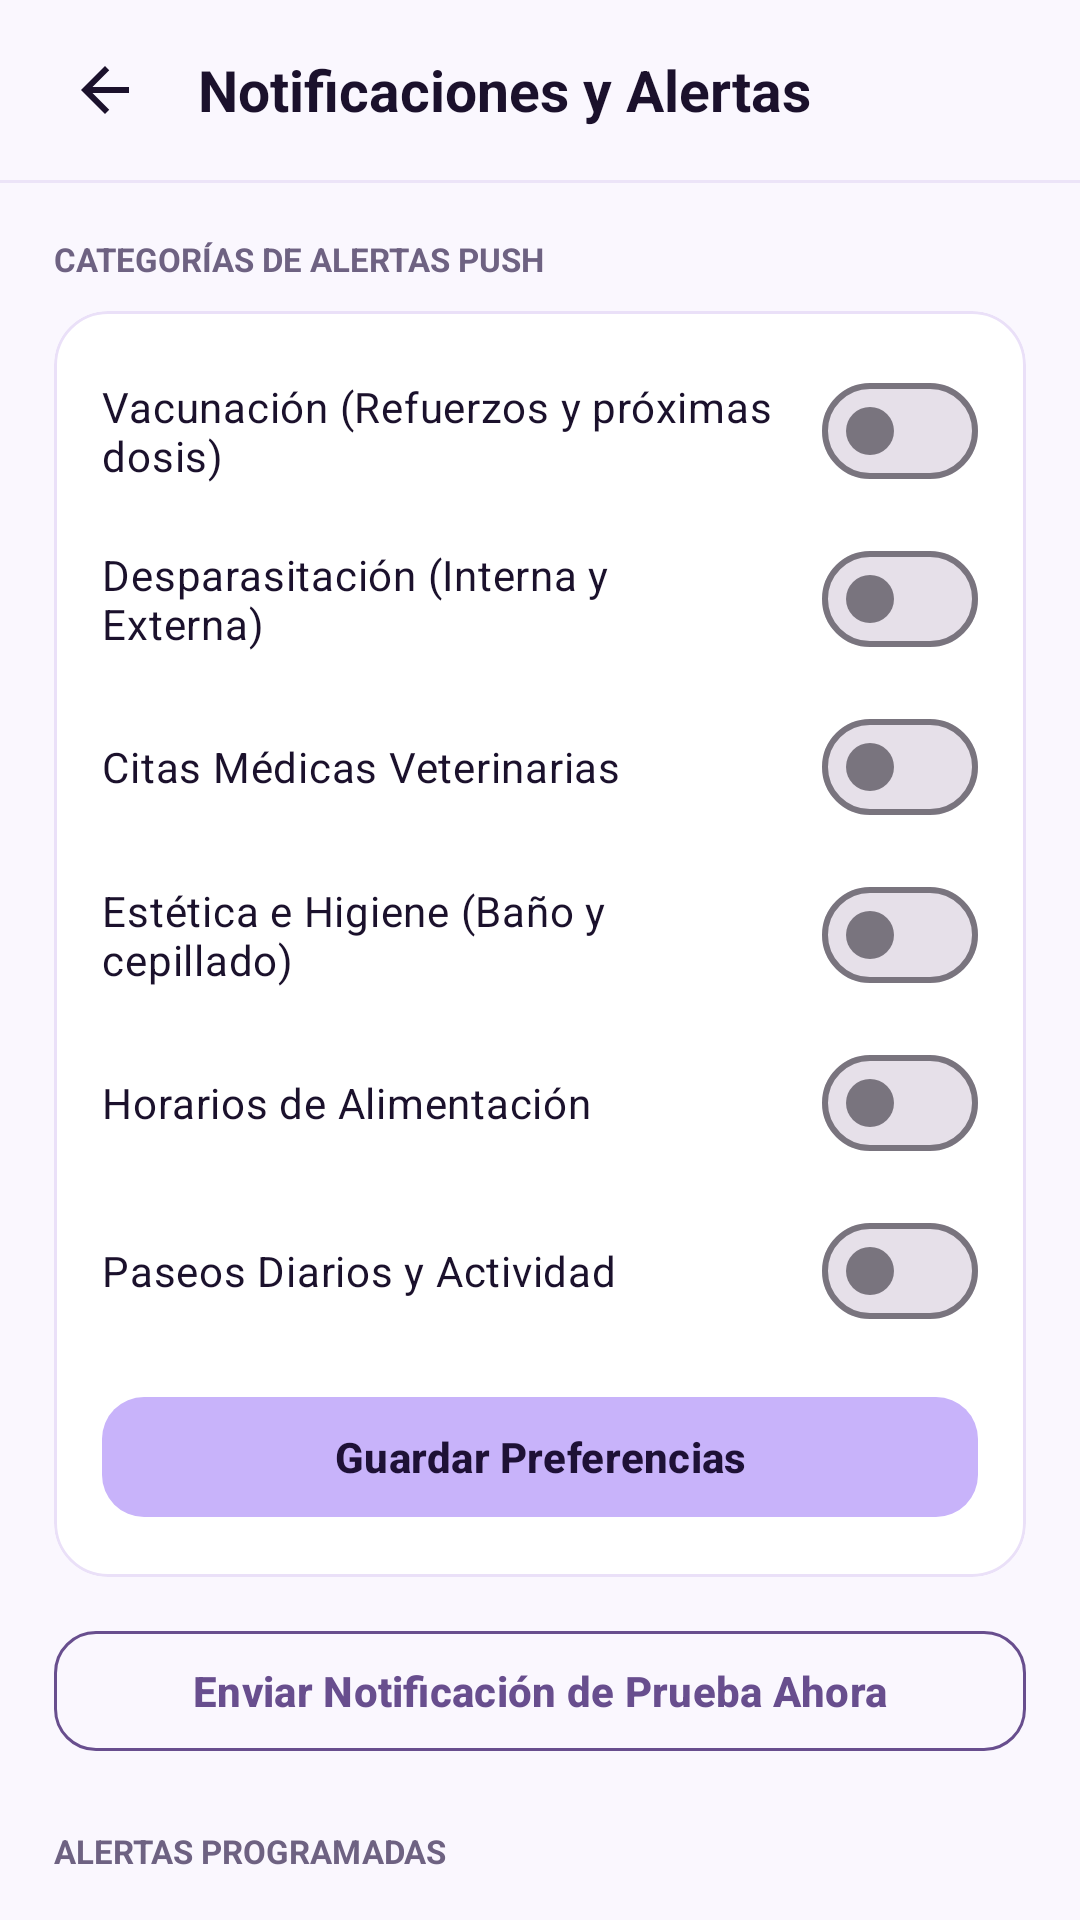

Icon bounding boxes for this 1080 × 1920 phone screenshot, format [x1, y1, x2, y2]:
Volver: [81, 66, 129, 114]
